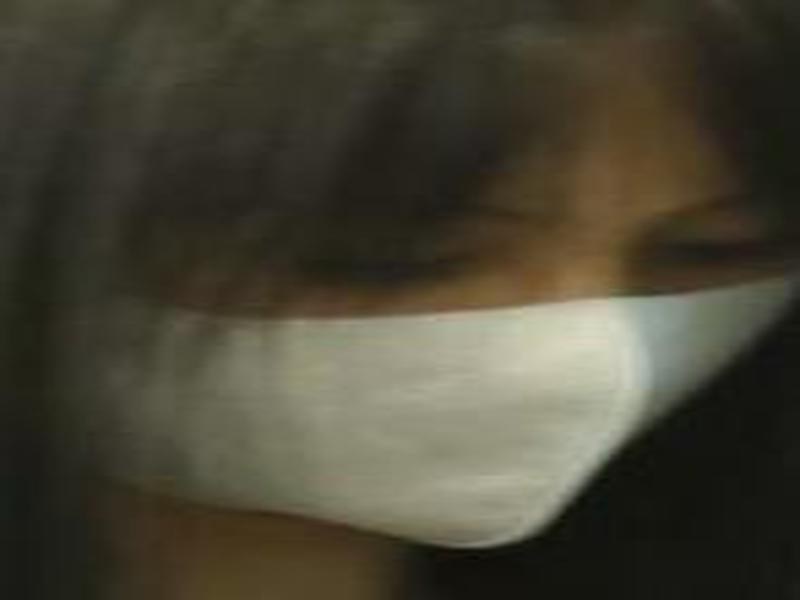with_mask: (1, 3, 795, 561)
